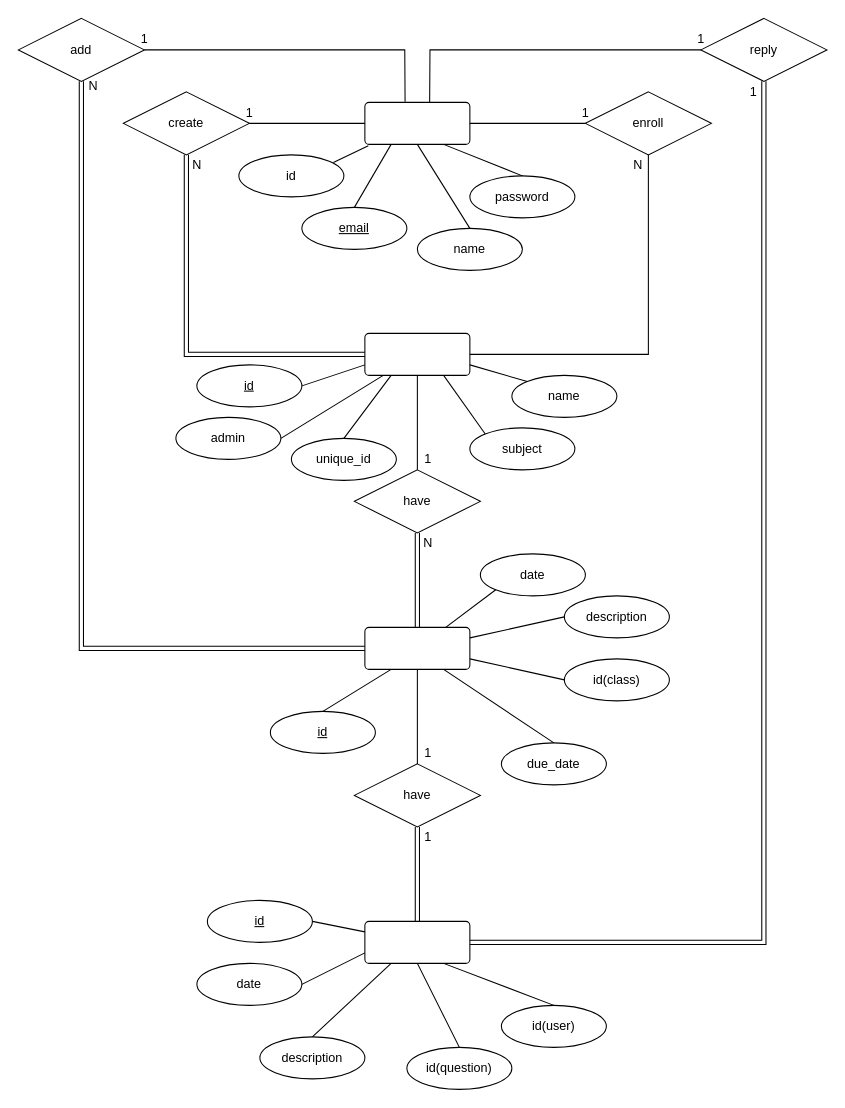
Image size: 845x1108. Some labels were removed from this diagram. Each missing label, with the centre of its shape:
"ANSWER" belongs at [417,941].
"CLASS" belongs at [417,353].
"QUESTION" belongs at [417,647].
"USER" belongs at [417,122].
